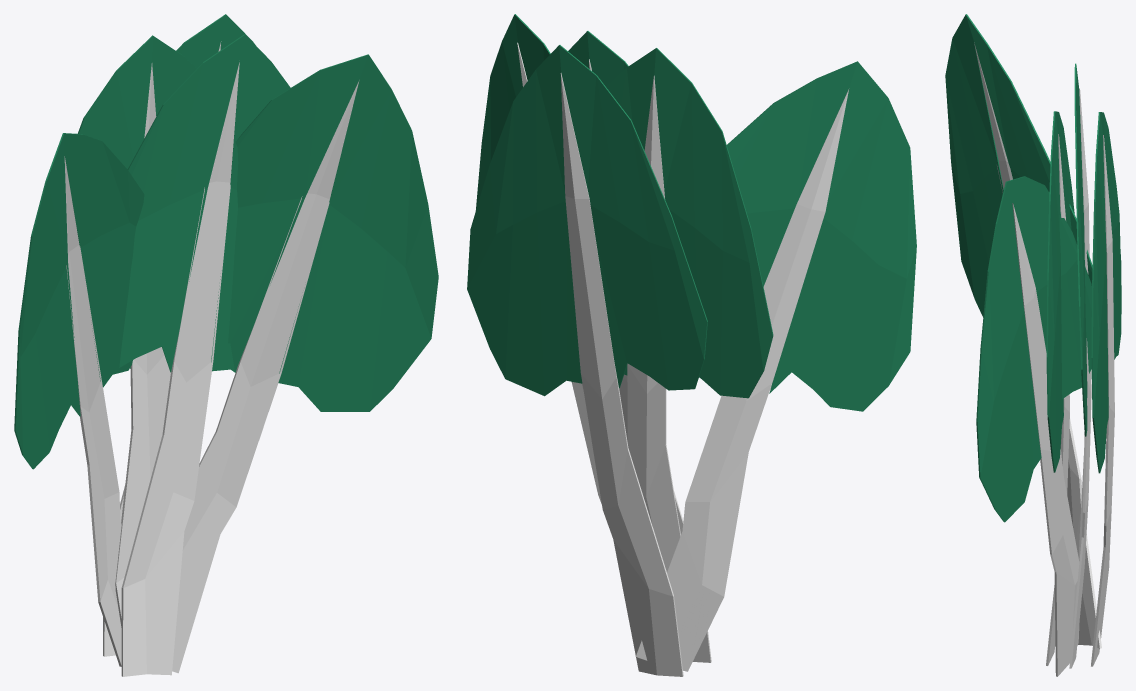
Rendered from Chard.fbx.
The picture shows the model from 3 angles, left to right: view 1: azimuth 30°, elevation 25°; view 2: azimuth 150°, elevation 25°; view 3: azimuth 270°, elevation 25°; orthographic projection. The views are drawn at different scales.
Visible parts, largest first — view 1: Chard.004; view 2: Chard.004; view 3: Chard.004.
Part boxes in pixels (x1,y1,x2,y2): Chard.004: [14, 14, 438, 676]; Chard.004: [467, 14, 916, 676]; Chard.004: [945, 14, 1121, 676].
Size of the model in its own units: 16.57 by 23.15 by 6.11.
